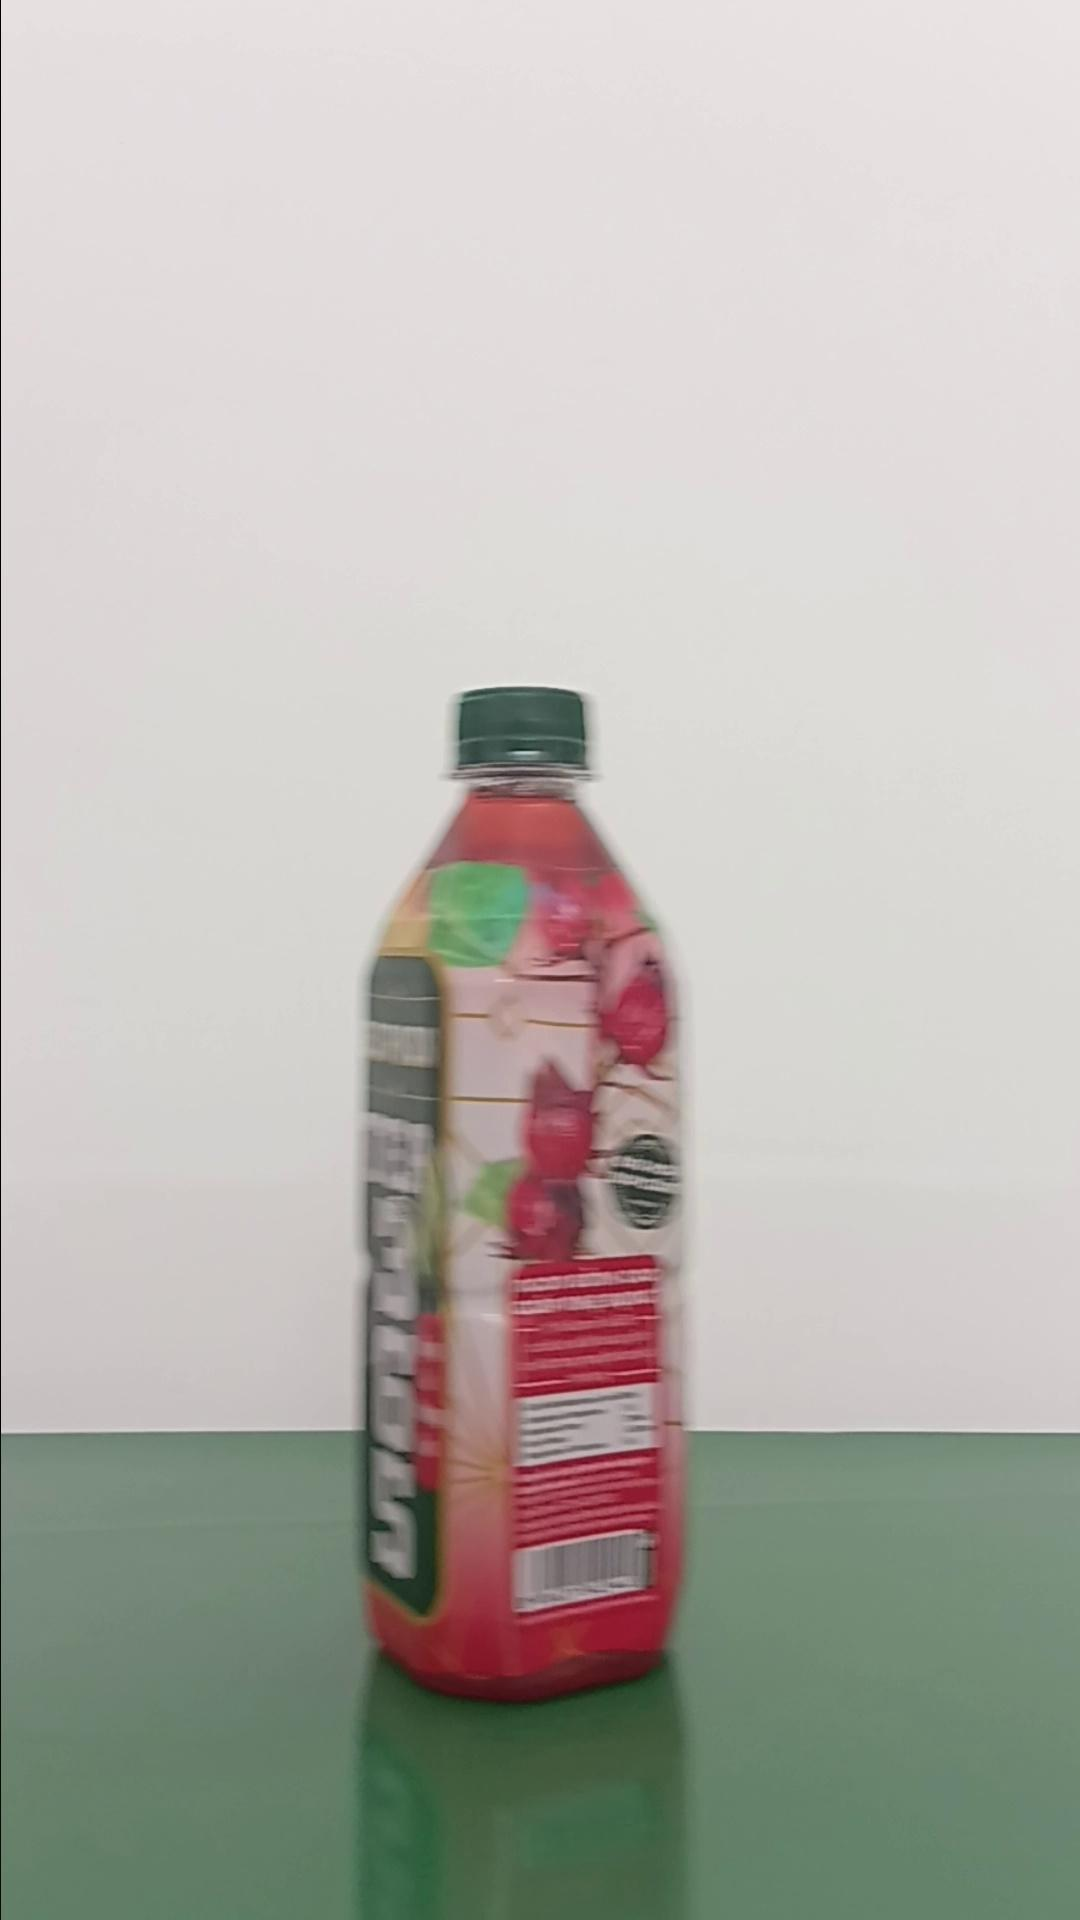khong loi: (355, 682, 694, 1702)
